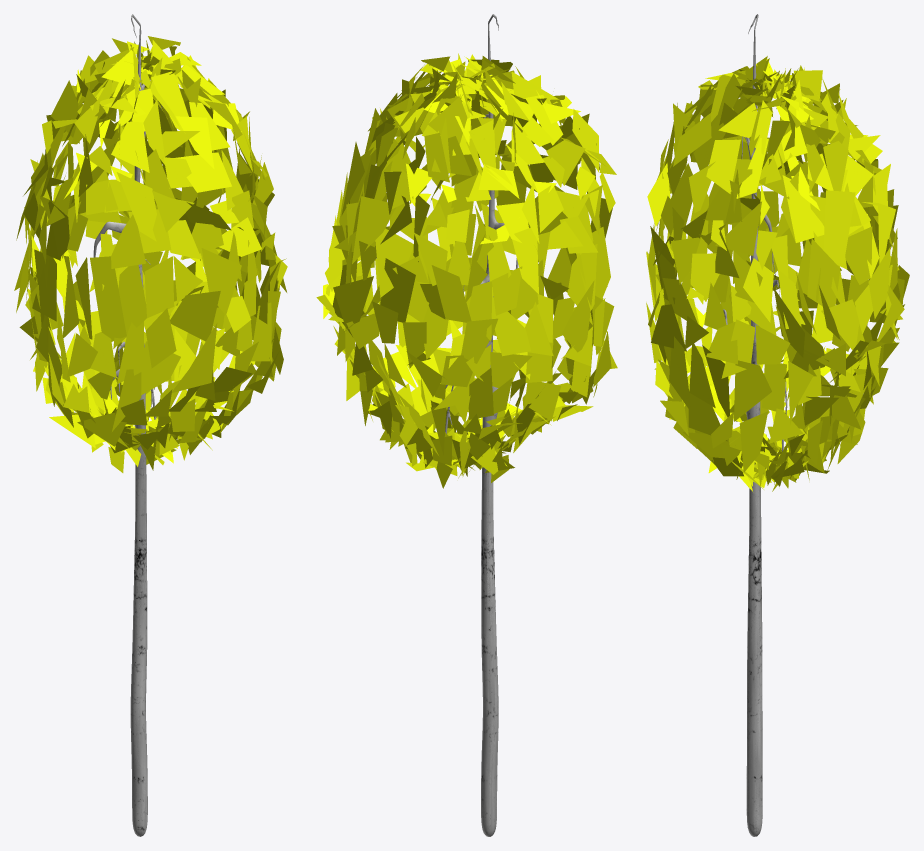
File: Leaves22.001.fbx
The picture shows the model from 3 angles, left to right: view 1: azimuth 30°, elevation 25°; view 2: azimuth 150°, elevation 25°; view 3: azimuth 270°, elevation 25°; orthographic projection.
Parts seen in each view (by area): view 1: Leaves22.001; view 2: Leaves22.001; view 3: Leaves22.001.
Part boxes in pixels (x1=…): Leaves22.001: x1=14, y1=14, x2=287, y2=836; Leaves22.001: x1=316, y1=14, x2=617, y2=836; Leaves22.001: x1=646, y1=14, x2=909, y2=836.
Size of the model in its own units: 816 by 2612 by 762.
Materials: 2 (1 with a texture image).
